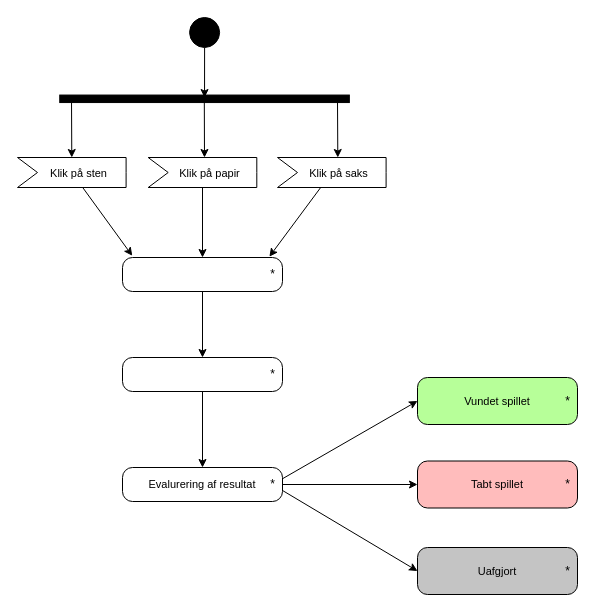
The diagram is 595 pixels wide and 612 high, and some of its shapes have lost their labels. The centre of each missing label's shape, as x and y in pixels:
"Animation kører" belongs at (202,374).
"Computeren tager et valg" belongs at (202,274).
